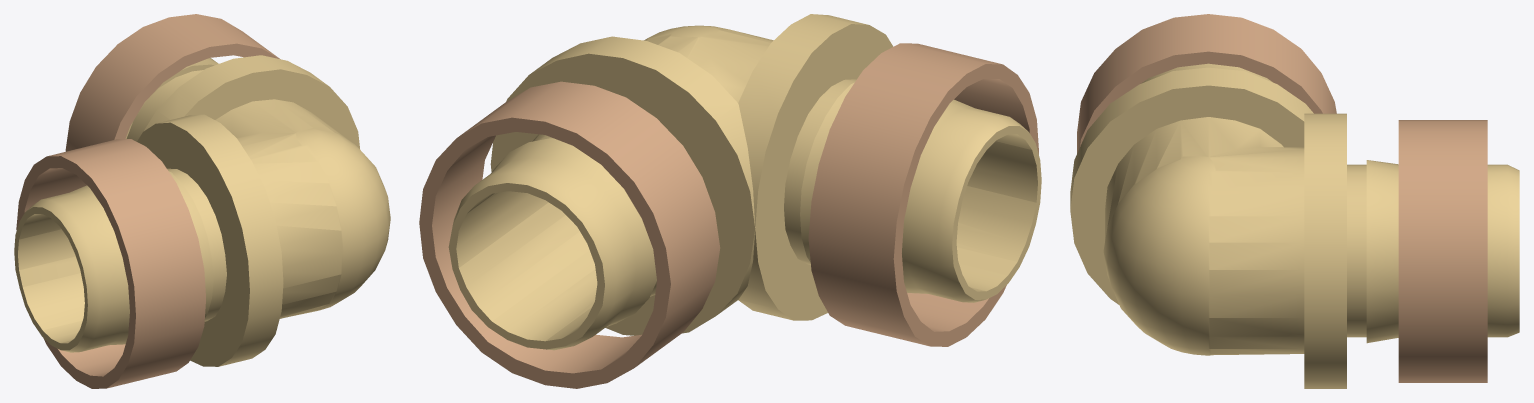
Rendered from pipes_supply__water-city_filter_and_softener-no_and_plumbing-pex_and_shutoff_extra-attic+none.glb.
3 views of the same model, side by side, from view 1: azimuth 30°, elevation 25°; view 2: azimuth 150°, elevation 25°; view 3: azimuth 270°, elevation 25° (orthographic). The views are drawn at different scales.
Parts seen in each view (by area): view 1: fit_elbow_pipe_supply_entry_direct__pex; view 2: fit_elbow_pipe_supply_entry_direct__pex; view 3: fit_elbow_pipe_supply_entry_direct__pex.
Boxes of the visible parts, x1,y1,x2,y2 form: fit_elbow_pipe_supply_entry_direct__pex: (14, 14, 390, 388); fit_elbow_pipe_supply_entry_direct__pex: (419, 14, 1041, 388); fit_elbow_pipe_supply_entry_direct__pex: (1070, 14, 1519, 388).
Bounding box in the file's own units: 0.0413 × 0.0254 × 0.0413.
